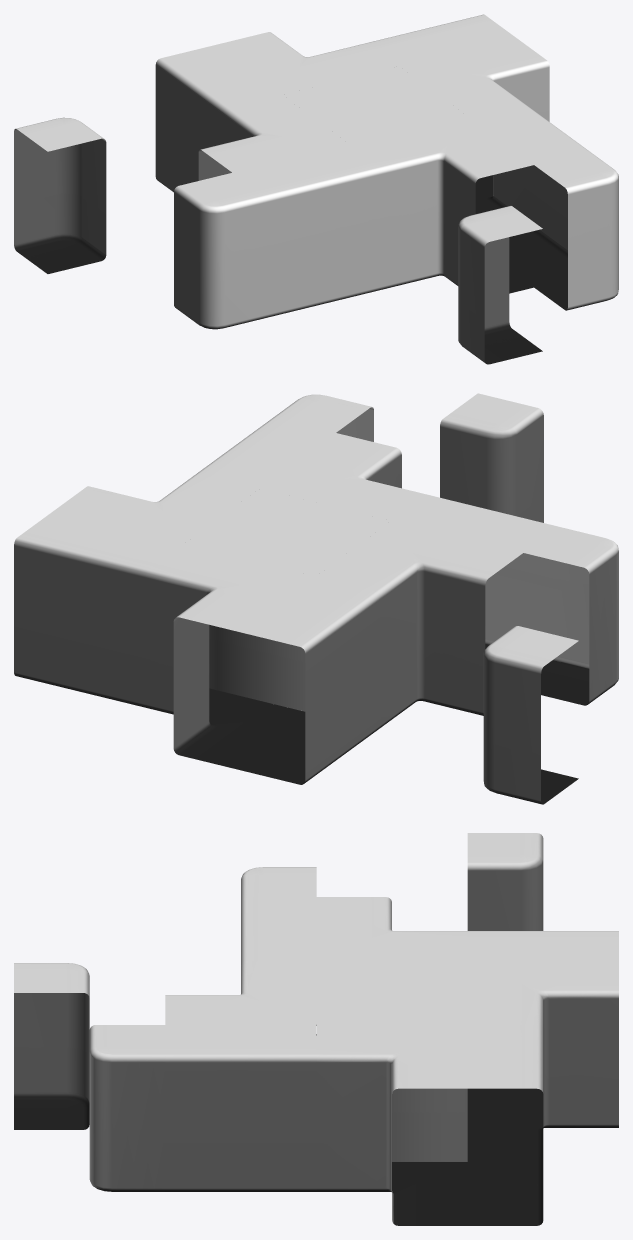
File: Dual_Grid (1).fbx
3 renders of one model, top to bottom at view 1: azimuth 30°, elevation 25°; view 2: azimuth 150°, elevation 25°; view 3: azimuth 270°, elevation 25°, orthographic. The views are drawn at different scales.
Parts seen in each view (by area): view 1: Dual_07, Dual_06, Dual_10, Dual_11, Dual_08, Dual_05, Dual_13, Dual_04, Dual_03, Dual_01, Dual_12, Dual_02 (+1 smaller); view 2: Dual_09, Dual_02, Dual_12, Dual_08, Dual_01, Dual_04, Dual_10, Dual_11, Dual_07, Dual_06, Dual_05, Dual_13 (+1 smaller); view 3: Dual_13, Dual_02, Dual_05, Dual_01, Dual_03, Dual_04, Dual_09, Dual_10, Dual_06, Dual_12, Dual_08, Dual_07 (+1 smaller).
Part boxes in pixels (box(x1,y1,x2,y2)): Dual_07: box(233, 144, 383, 317); Dual_06: box(350, 115, 533, 293); Dual_10: box(14, 117, 106, 273); Dual_11: box(174, 172, 266, 329); Dual_08: box(155, 45, 281, 192); Dual_05: box(399, 37, 549, 215); Dual_13: box(467, 102, 589, 287); Dual_04: box(458, 206, 542, 364); Dual_03: box(534, 152, 618, 310); Dual_01: box(282, 66, 465, 143); Dual_12: box(198, 94, 348, 180); Dual_02: box(214, 32, 398, 94); Dual_09: box(14, 512, 183, 707); Dual_02: box(145, 544, 315, 769); Dual_12: box(316, 521, 522, 727); Dual_08: box(240, 576, 381, 784); Dual_01: box(184, 488, 391, 711); Dual_04: box(440, 393, 543, 522); Dual_10: box(483, 626, 578, 804); Dual_11: box(524, 527, 618, 705); Dual_07: box(392, 495, 561, 677); Dual_06: box(260, 433, 427, 520); Dual_05: box(52, 473, 259, 544); Dual_13: box(197, 418, 335, 488); Dual_13: box(165, 1025, 316, 1191); Dual_02: box(467, 961, 618, 1161); Dual_05: box(316, 1025, 467, 1225); Dual_01: box(316, 961, 467, 1161); Dual_03: box(89, 1025, 165, 1191); Dual_04: box(14, 963, 89, 1129); Dual_09: box(467, 1025, 543, 1225); Dual_10: box(467, 833, 543, 930); Dual_06: box(165, 961, 316, 1024); Dual_12: box(316, 897, 467, 960); Dual_08: box(467, 931, 618, 1097); Dual_07: box(241, 897, 316, 1035).
Bounding box in the file's own units: 4 × 1 × 4.
1 material, 1 textured.
